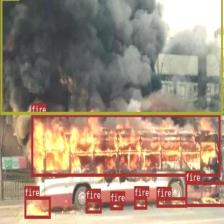fire: (31, 113, 220, 176), (185, 181, 224, 206), (24, 196, 50, 218), (156, 197, 187, 207), (85, 198, 101, 212), (134, 196, 147, 208), (110, 201, 122, 210)
smoke: (0, 0, 223, 114)
